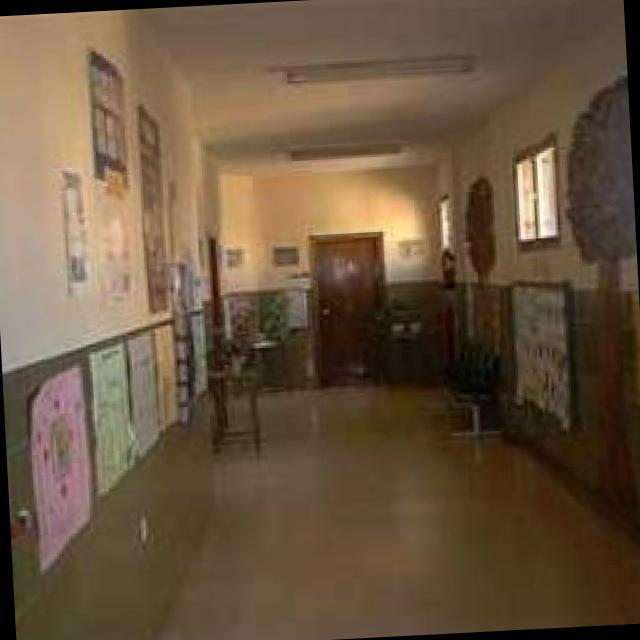2001: (506, 130, 562, 252), (434, 191, 454, 249)
ceiling beam: (136, 0, 620, 177)
door bars: (308, 229, 393, 383), (205, 233, 225, 426)
floor -X: (160, 379, 640, 640)
light fixture: (266, 46, 476, 90), (276, 138, 402, 165)
picture crop: (28, 363, 90, 575), (501, 275, 569, 435), (86, 340, 135, 497), (136, 99, 172, 312), (88, 44, 133, 200), (54, 165, 88, 296), (126, 329, 158, 460), (393, 234, 428, 266), (270, 241, 302, 270)
table -X: (213, 373, 265, 461)
wall clock: (0, 9, 234, 640), (435, 16, 640, 549), (222, 169, 446, 389)
